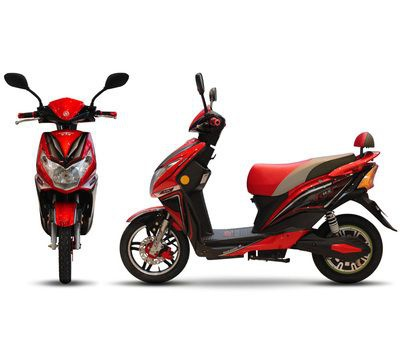non-vehicle: (118, 70, 387, 284), (1, 68, 139, 288)
